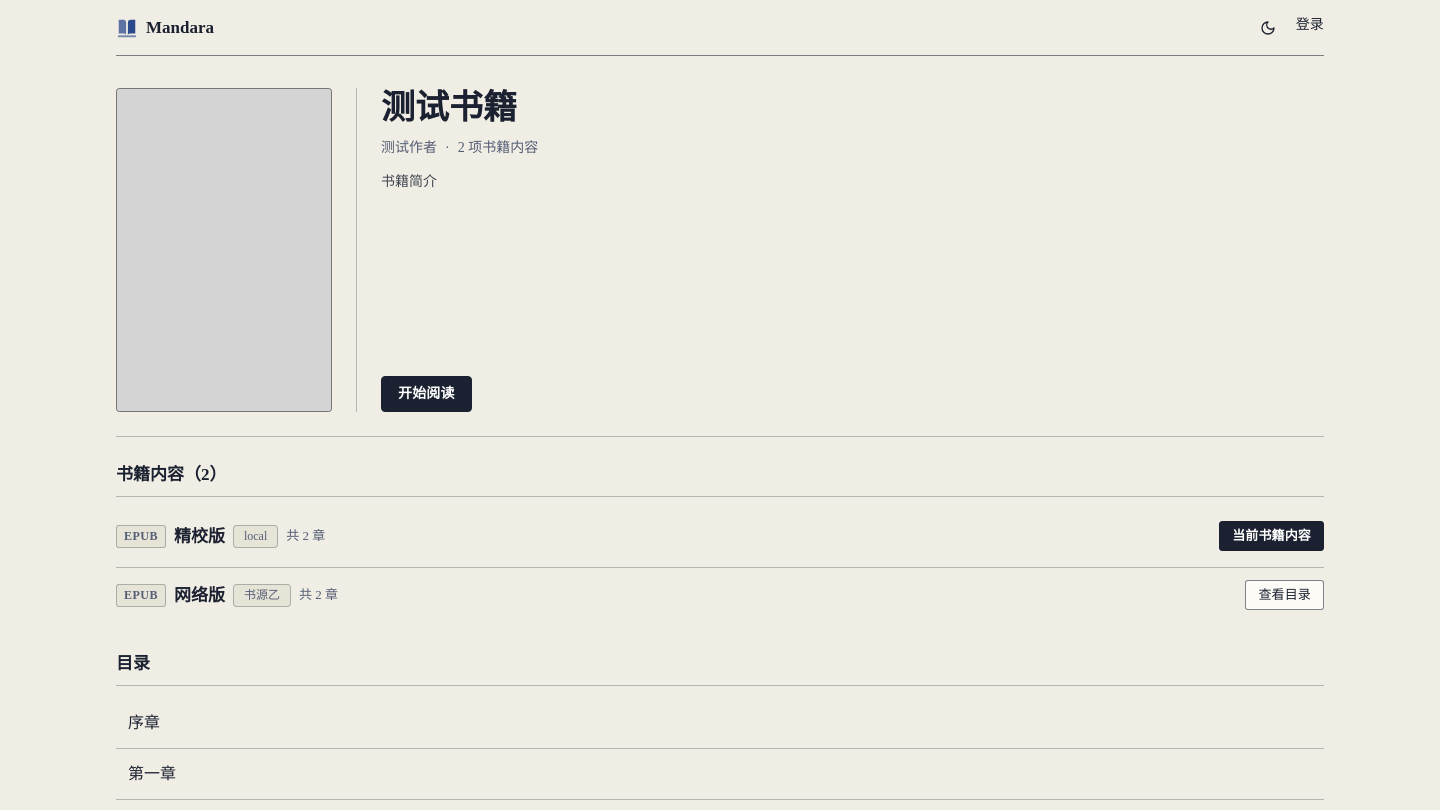
Test: shows all shared sources and isolates chapters and illustrations when switching versions
Step 1. Click the link with aria-label "查看网络版目录" → (1285, 595), box [1246,580,1324,610]
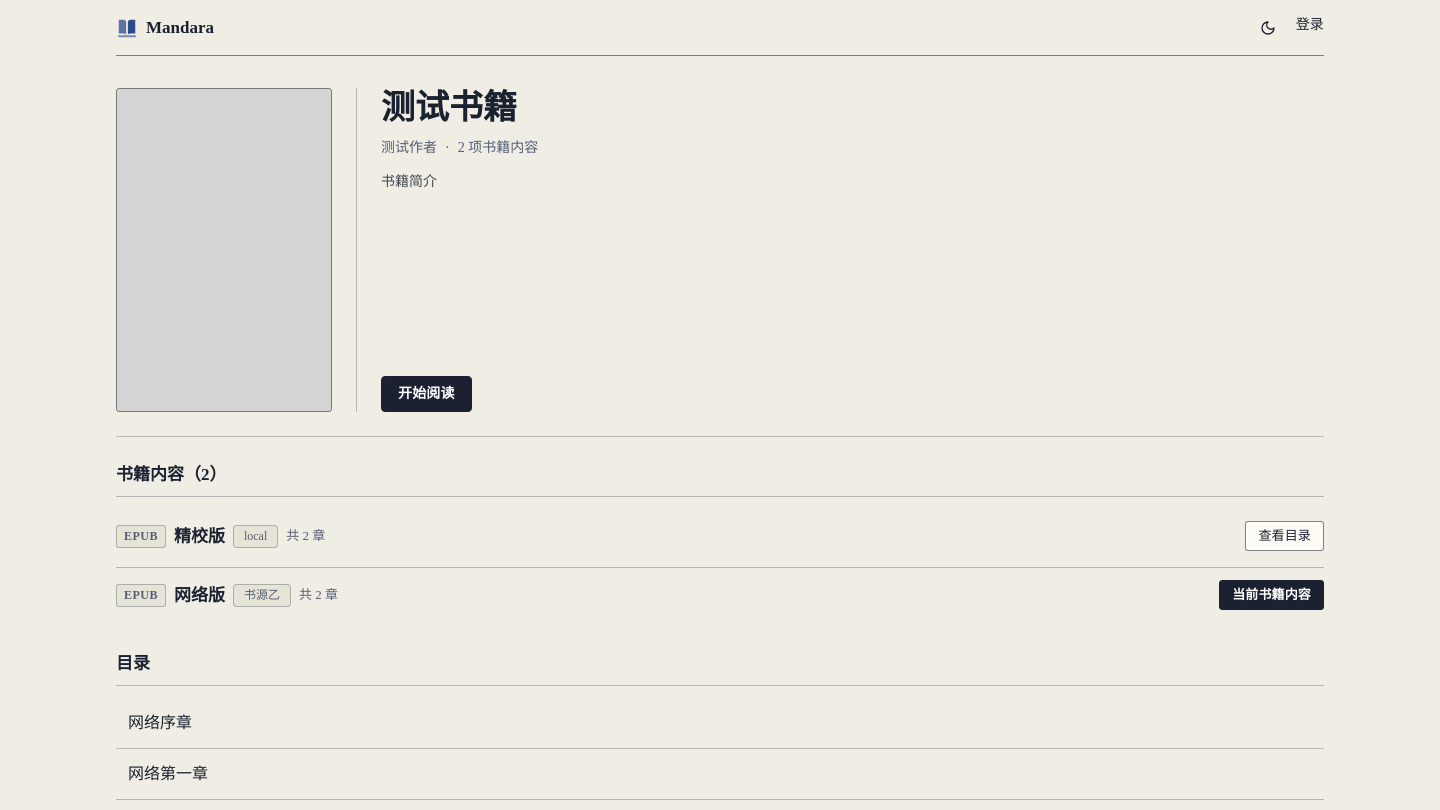
Now the link "网络第一章" is shown, box [116,749,1324,800]
Step 2. Click the link "开始阅读" → (426, 394), box [381,376,472,412]
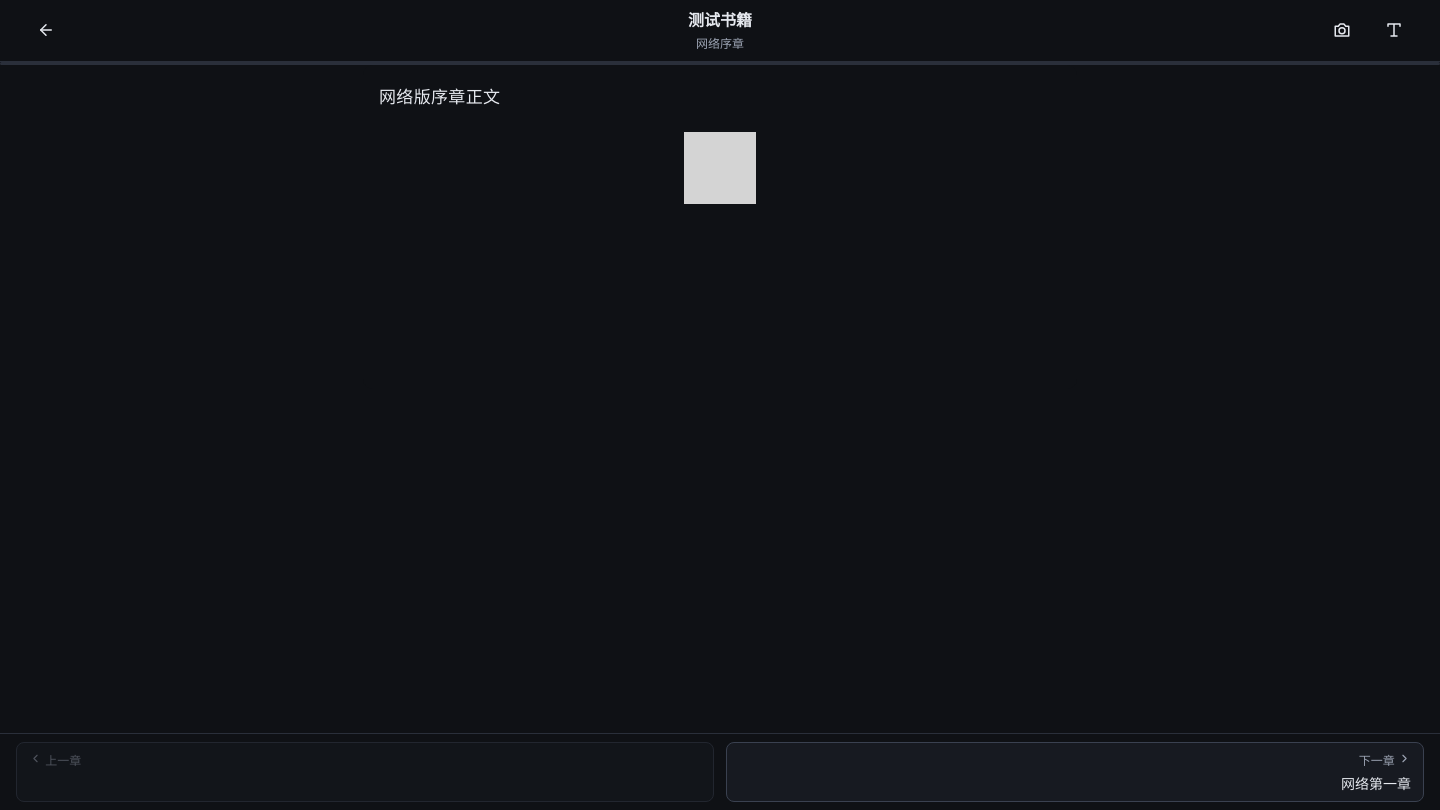
Now the text "网络版序章正文" is shown, box [379,88,500,107]
Step 3. Click the button "下一章 网络第一章" → (1377, 760), box [726,742,1424,802]
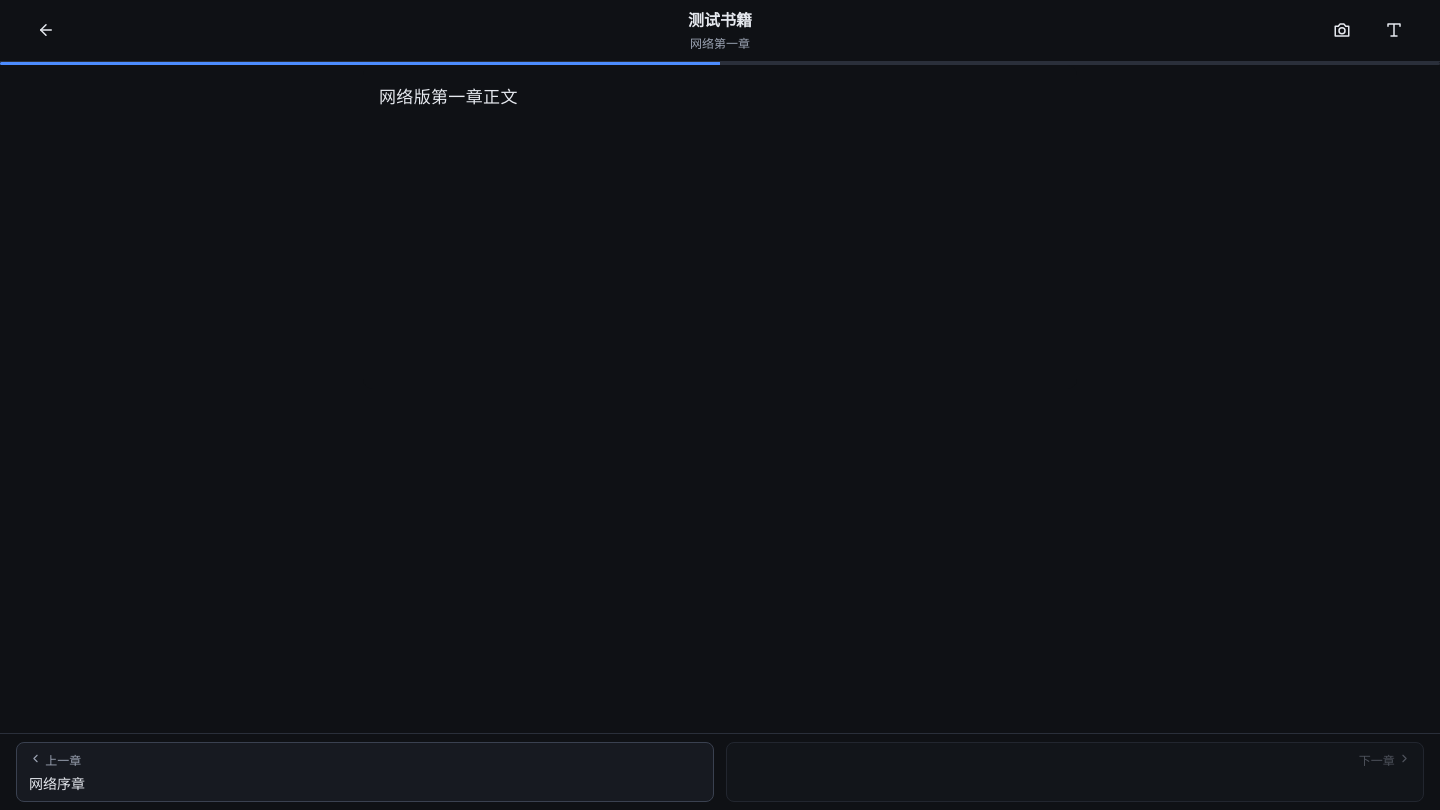
Now the text "网络版第一章正文" is shown, box [379,88,518,107]
Step 4. Click the link named "返回书籍详情" → (46, 30), box [37,21,55,39]
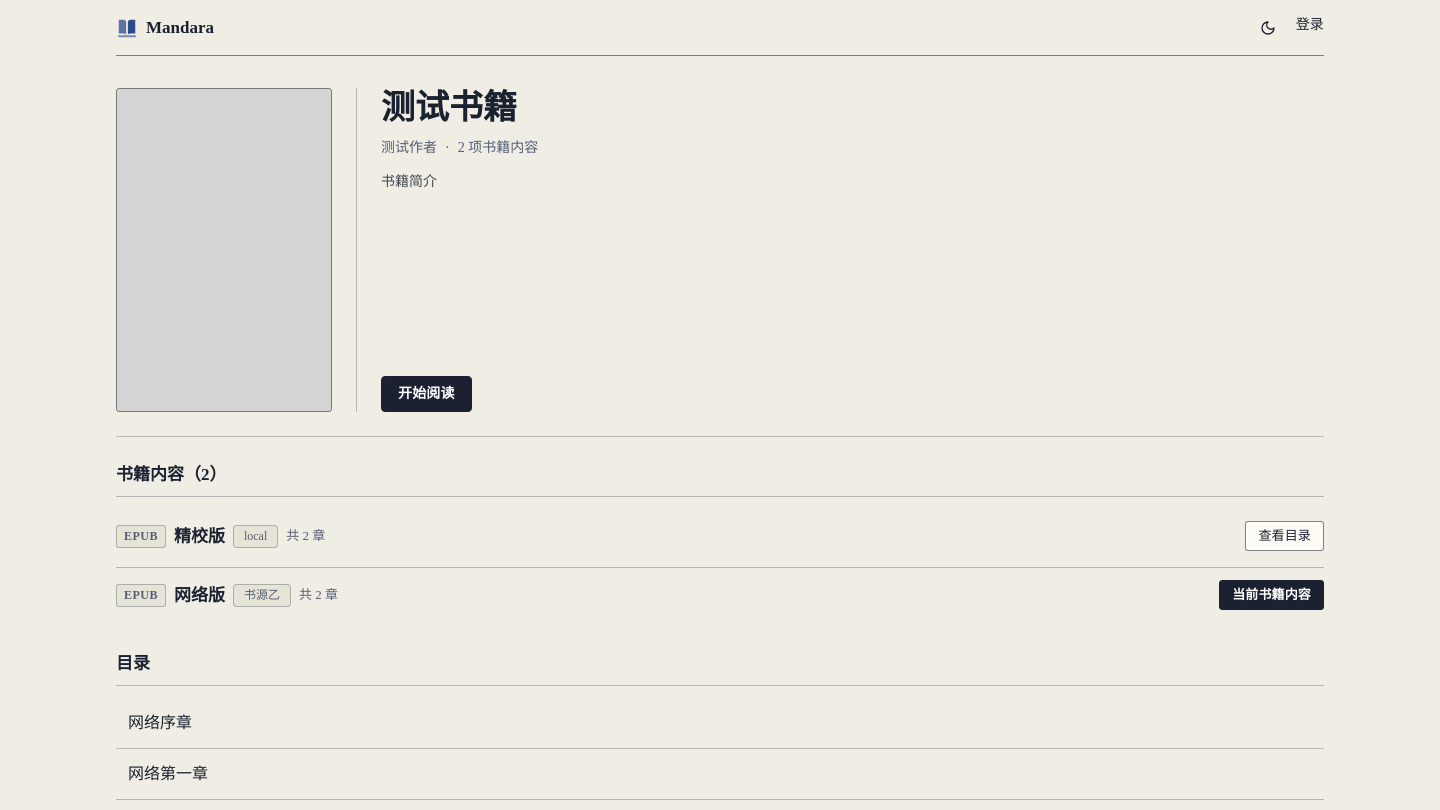
Step 5. Click the link with aria-label "查看精校版目录" → (1285, 536), box [1246,521,1324,551]
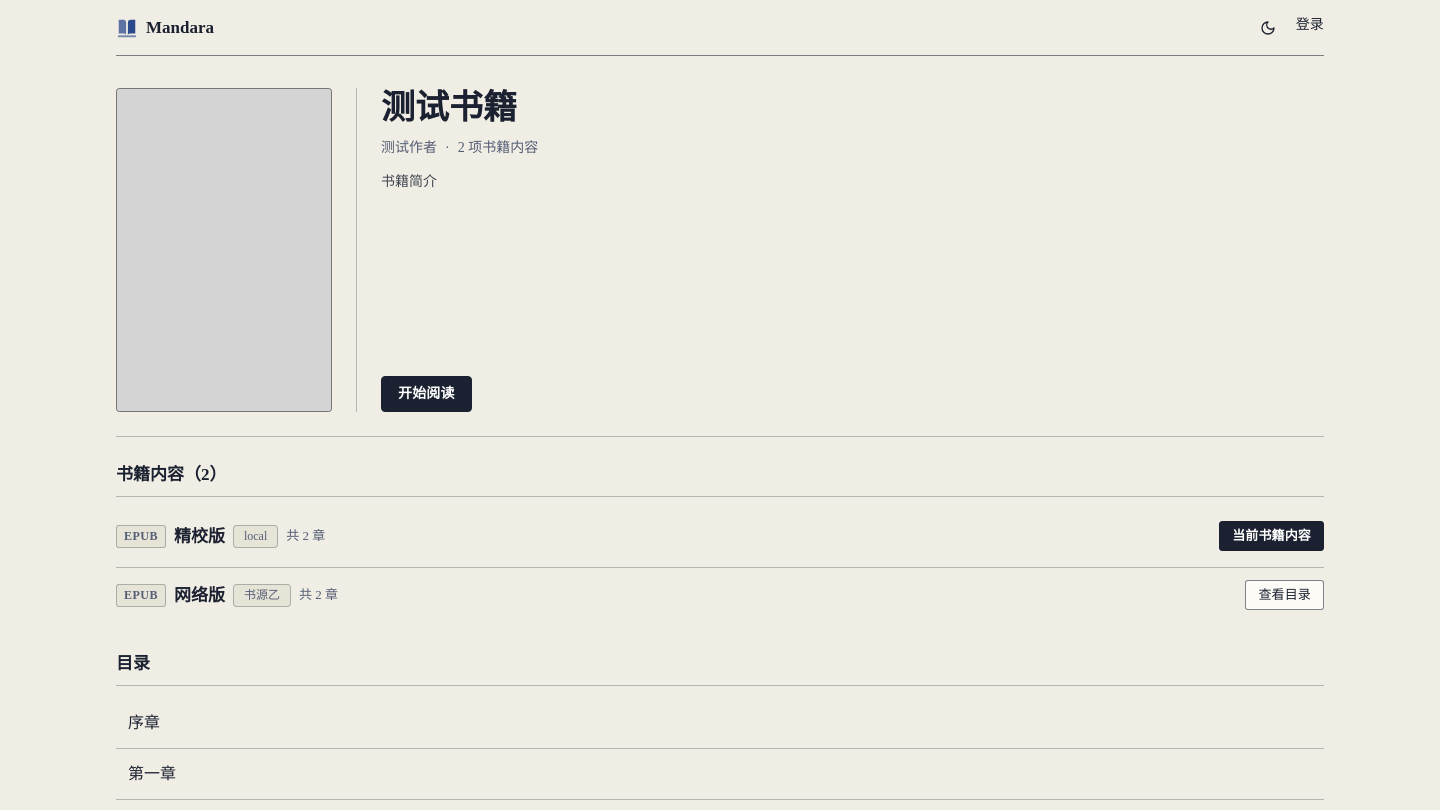
Step 6. Click the link "开始阅读" → (426, 394), box [381,376,472,412]
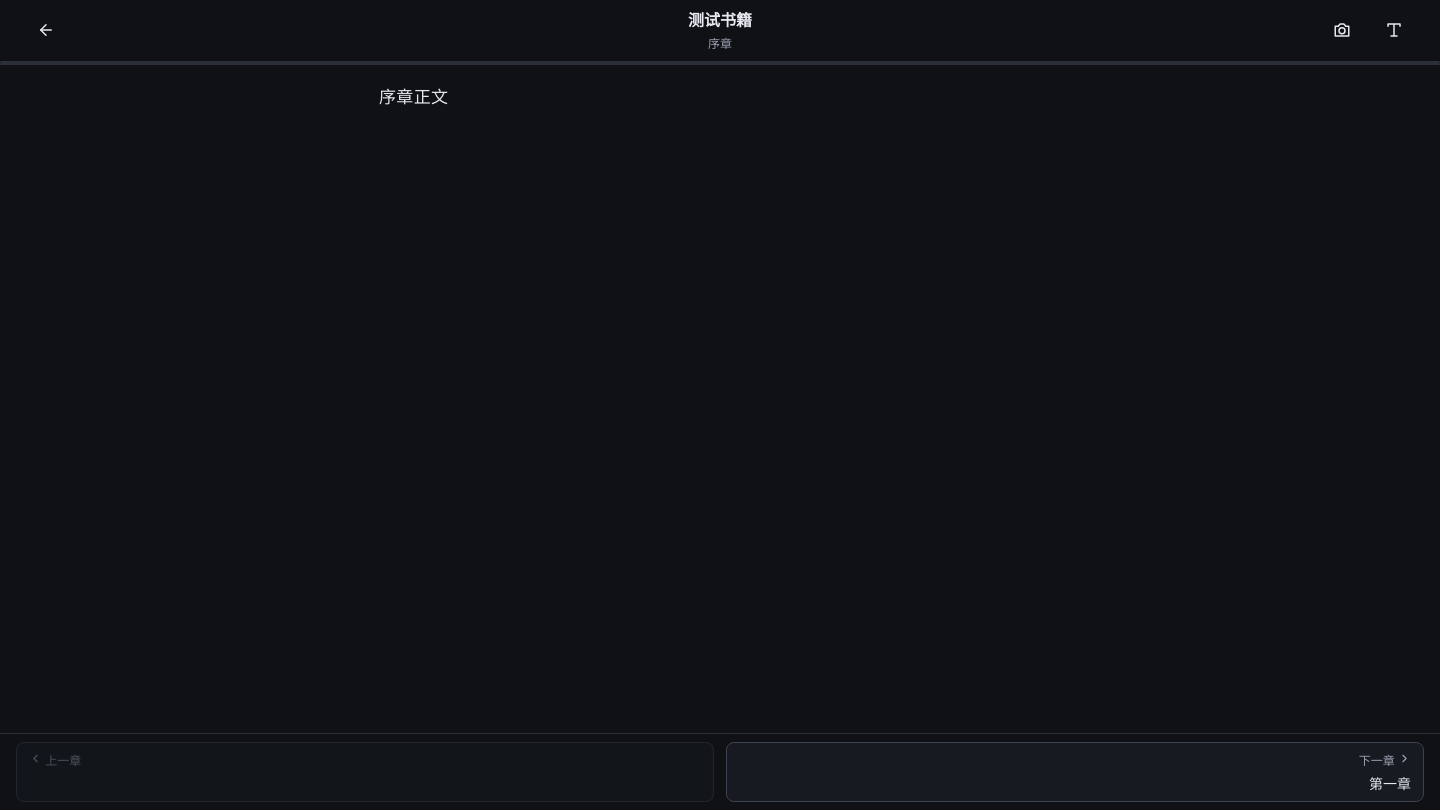
Expected: the text "网络版序章正文" is not shown
Now the text "序章正文" is shown, box [379,88,448,107]
